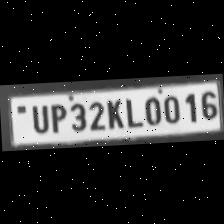0: (140, 92, 162, 125), (160, 92, 182, 124)
1: (180, 90, 198, 124)
2: (85, 97, 105, 130)
3: (65, 98, 87, 132)
6: (196, 88, 218, 120)
K: (102, 96, 124, 130)
L: (121, 96, 141, 128)
P: (46, 101, 68, 133)
U: (27, 102, 49, 134)
